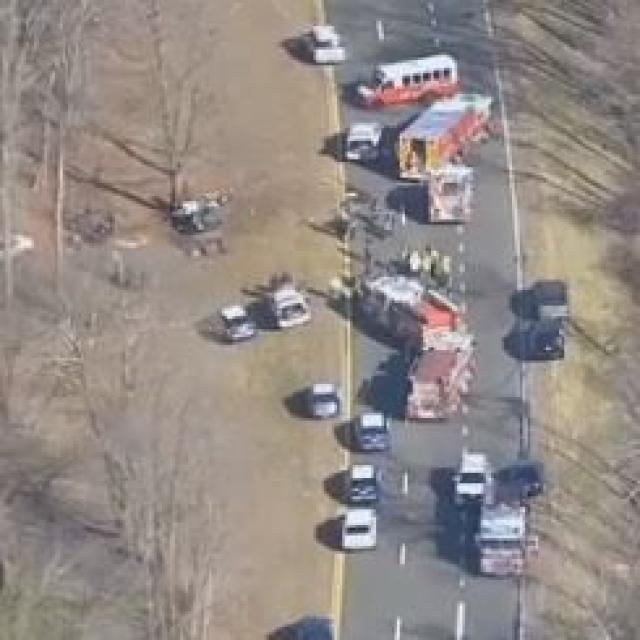traffic_incident: (348, 261, 480, 423), (154, 172, 246, 251)
